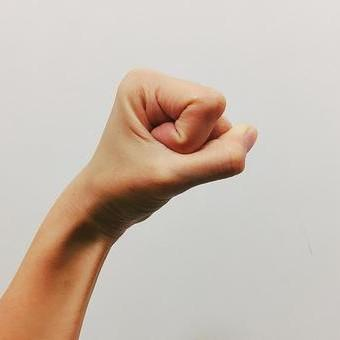gu-: (94, 68, 258, 214)
